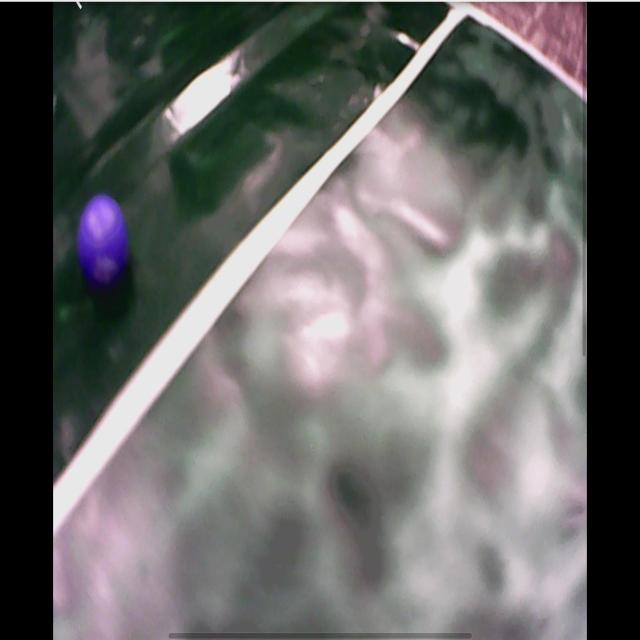ball: (77, 199, 131, 282)
